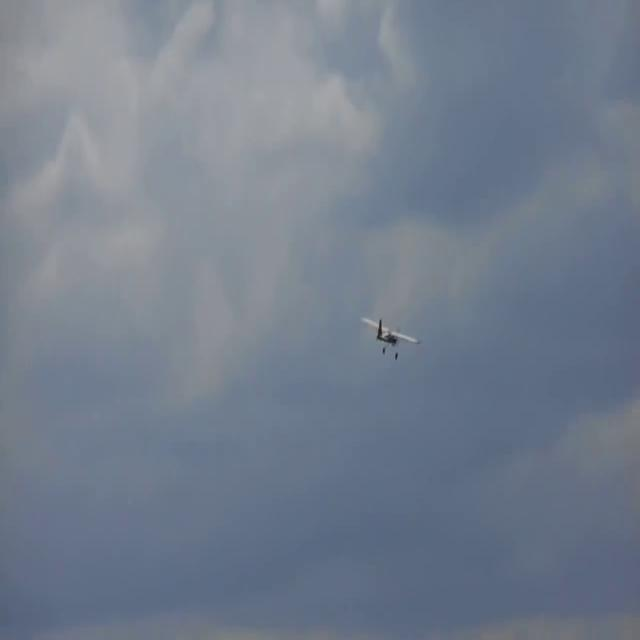iha: (357, 317, 415, 360)
